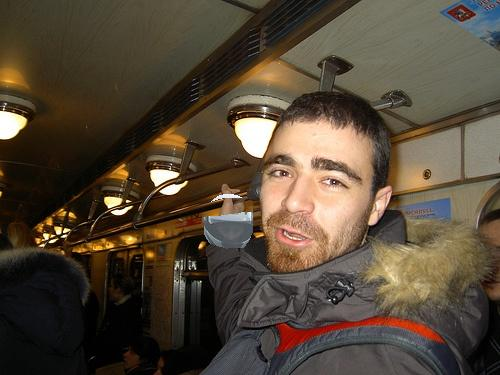tampered: (204, 195, 253, 250)
